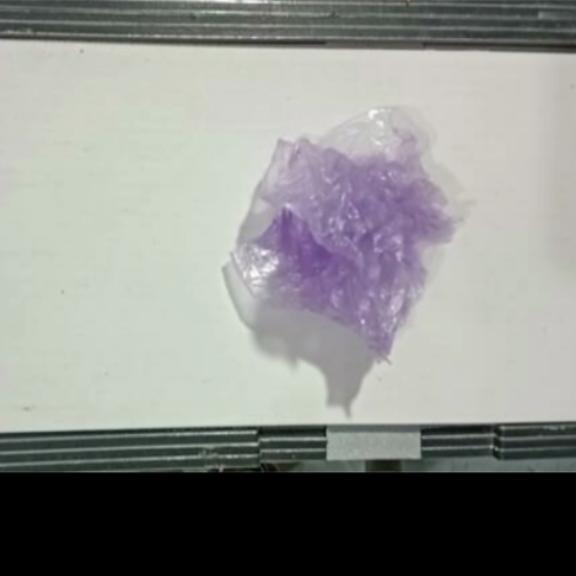Plastik: (230, 107, 455, 367)
